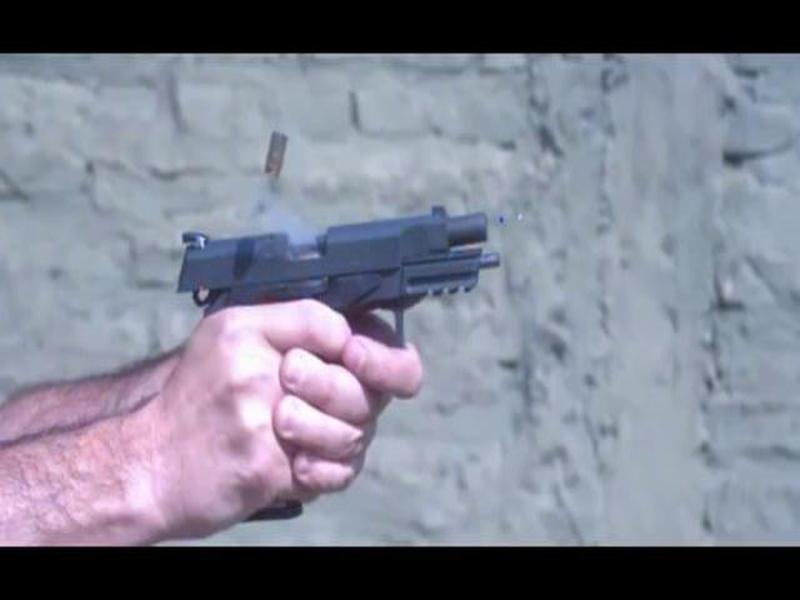Pistola: (170, 211, 509, 396)
